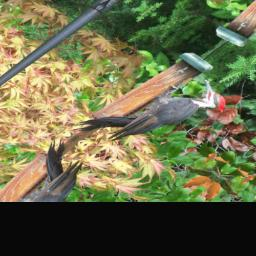Woodpecker: (71, 56, 241, 170)
